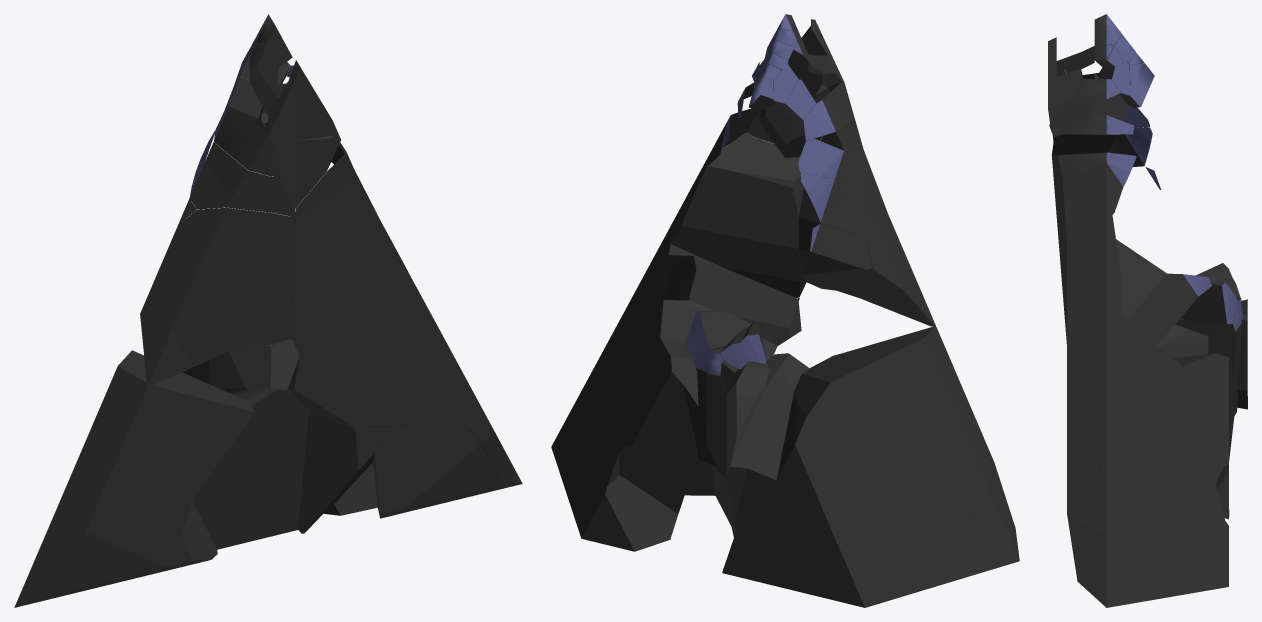
Rendered from ShipsDead.fbx.
3 renders of one model, left to right at view 1: azimuth 30°, elevation 25°; view 2: azimuth 150°, elevation 25°; view 3: azimuth 270°, elevation 25°, orthographic. The views are drawn at different scales.
Parts seen in each view (by area): view 1: Plane_cell.087, Plane_cell.077, Plane_cell.089, Plane_cell.038, Plane_cell.080, Plane_cell.054, Plane_cell.049, Plane_cell.058, Plane_cell.068, Plane_cell.066, Plane_cell.008, Plane_cell.034 (+10 smaller); view 2: Plane_cell.089, Plane_cell.080, Plane_cell.049, Plane_cell.044, Plane_cell.048, Plane_cell.008, Plane_cell.087, Plane_cell.038, Plane_cell.036, Plane_cell.077, Plane_cell.031, Plane_cell.067 (+19 smaller); view 3: Plane_cell.031, Plane_cell.036, Plane_cell.077, Plane_cell.080, Plane_cell.084, Plane_cell.008, Plane_cell.089, Plane_cell.057, Plane_cell.051, Plane_cell.071, Plane_cell.034, Plane_cell.014 (+17 smaller).
Boxes of the visible parts, left/top/right/bottom form: Plane_cell.087: left=140, top=207, right=295, bottom=385; Plane_cell.077: left=291, top=272, right=486, bottom=430; Plane_cell.089: left=81, top=350, right=254, bottom=492; Plane_cell.038: left=193, top=388, right=309, bottom=549; Plane_cell.080: left=291, top=178, right=408, bottom=355; Plane_cell.054: left=373, top=425, right=501, bottom=518; Plane_cell.049: left=56, top=452, right=196, bottom=547; Plane_cell.058: left=298, top=411, right=382, bottom=533; Plane_cell.068: left=14, top=532, right=119, bottom=607; Plane_cell.066: left=189, top=130, right=295, bottom=217; Plane_cell.008: left=208, top=339, right=300, bottom=393; Plane_cell.034: left=267, top=60, right=337, bottom=149; Plane_cell.089: left=776, top=326, right=969, bottom=491; Plane_cell.080: left=668, top=133, right=806, bottom=297; Plane_cell.049: left=792, top=405, right=992, bottom=539; Plane_cell.044: left=722, top=484, right=859, bottom=606; Plane_cell.048: left=835, top=458, right=995, bottom=591; Plane_cell.008: left=628, top=338, right=769, bottom=466; Plane_cell.087: left=798, top=161, right=935, bottom=326; Plane_cell.038: left=711, top=353, right=809, bottom=536; Plane_cell.036: left=601, top=286, right=777, bottom=450; Plane_cell.077: left=611, top=231, right=801, bottom=345; Plane_cell.031: left=551, top=355, right=619, bottom=527; Plane_cell.067: left=578, top=474, right=678, bottom=551; Plane_cell.031: left=1067, top=481, right=1224, bottom=607; Plane_cell.036: left=1094, top=343, right=1223, bottom=483; Plane_cell.077: left=1064, top=311, right=1143, bottom=495; Plane_cell.080: left=1054, top=182, right=1122, bottom=314; Plane_cell.084: left=1052, top=152, right=1136, bottom=214; Plane_cell.008: left=1173, top=353, right=1237, bottom=465; Plane_cell.089: left=1116, top=239, right=1208, bottom=357; Plane_cell.057: left=1128, top=273, right=1211, bottom=345; Plane_cell.051: left=1049, top=74, right=1127, bottom=155; Plane_cell.071: left=1208, top=313, right=1247, bottom=409; Plane_cell.034: left=1048, top=37, right=1083, bottom=126; Plane_cell.014: left=1181, top=282, right=1238, bottom=323.
Bounding box in the file's own units: 666 × 698 × 250.
